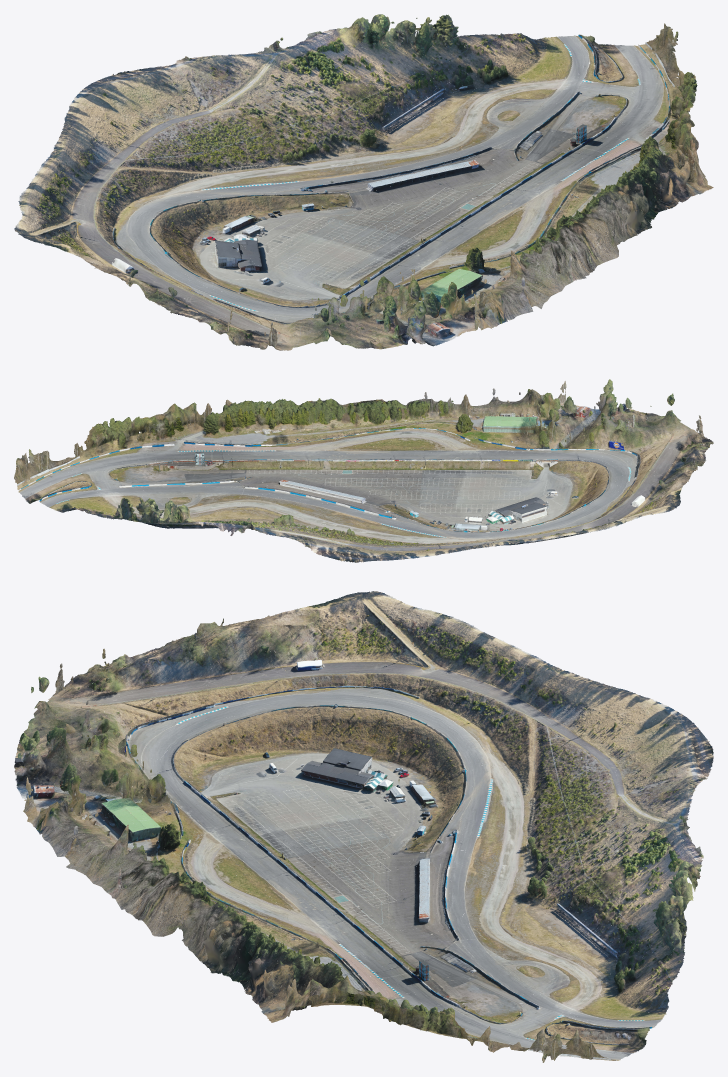
File: track.glb
3 renders of one model, top to bottom at view 1: azimuth 30°, elevation 25°; view 2: azimuth 150°, elevation 25°; view 3: azimuth 270°, elevation 25°, orthographic. The views are drawn at different scales.
Parts seen in each view (by area): view 1: Model; view 2: Model; view 3: Model.
Boxes of the visible parts, box(x1,y1,x2,y2) form: Model: box(14, 14, 713, 350); Model: box(14, 379, 713, 562); Model: box(14, 591, 713, 1062).
Bounding box in the file's own units: 29.53 × 3 × 21.92.
4 materials, 4 textured.
